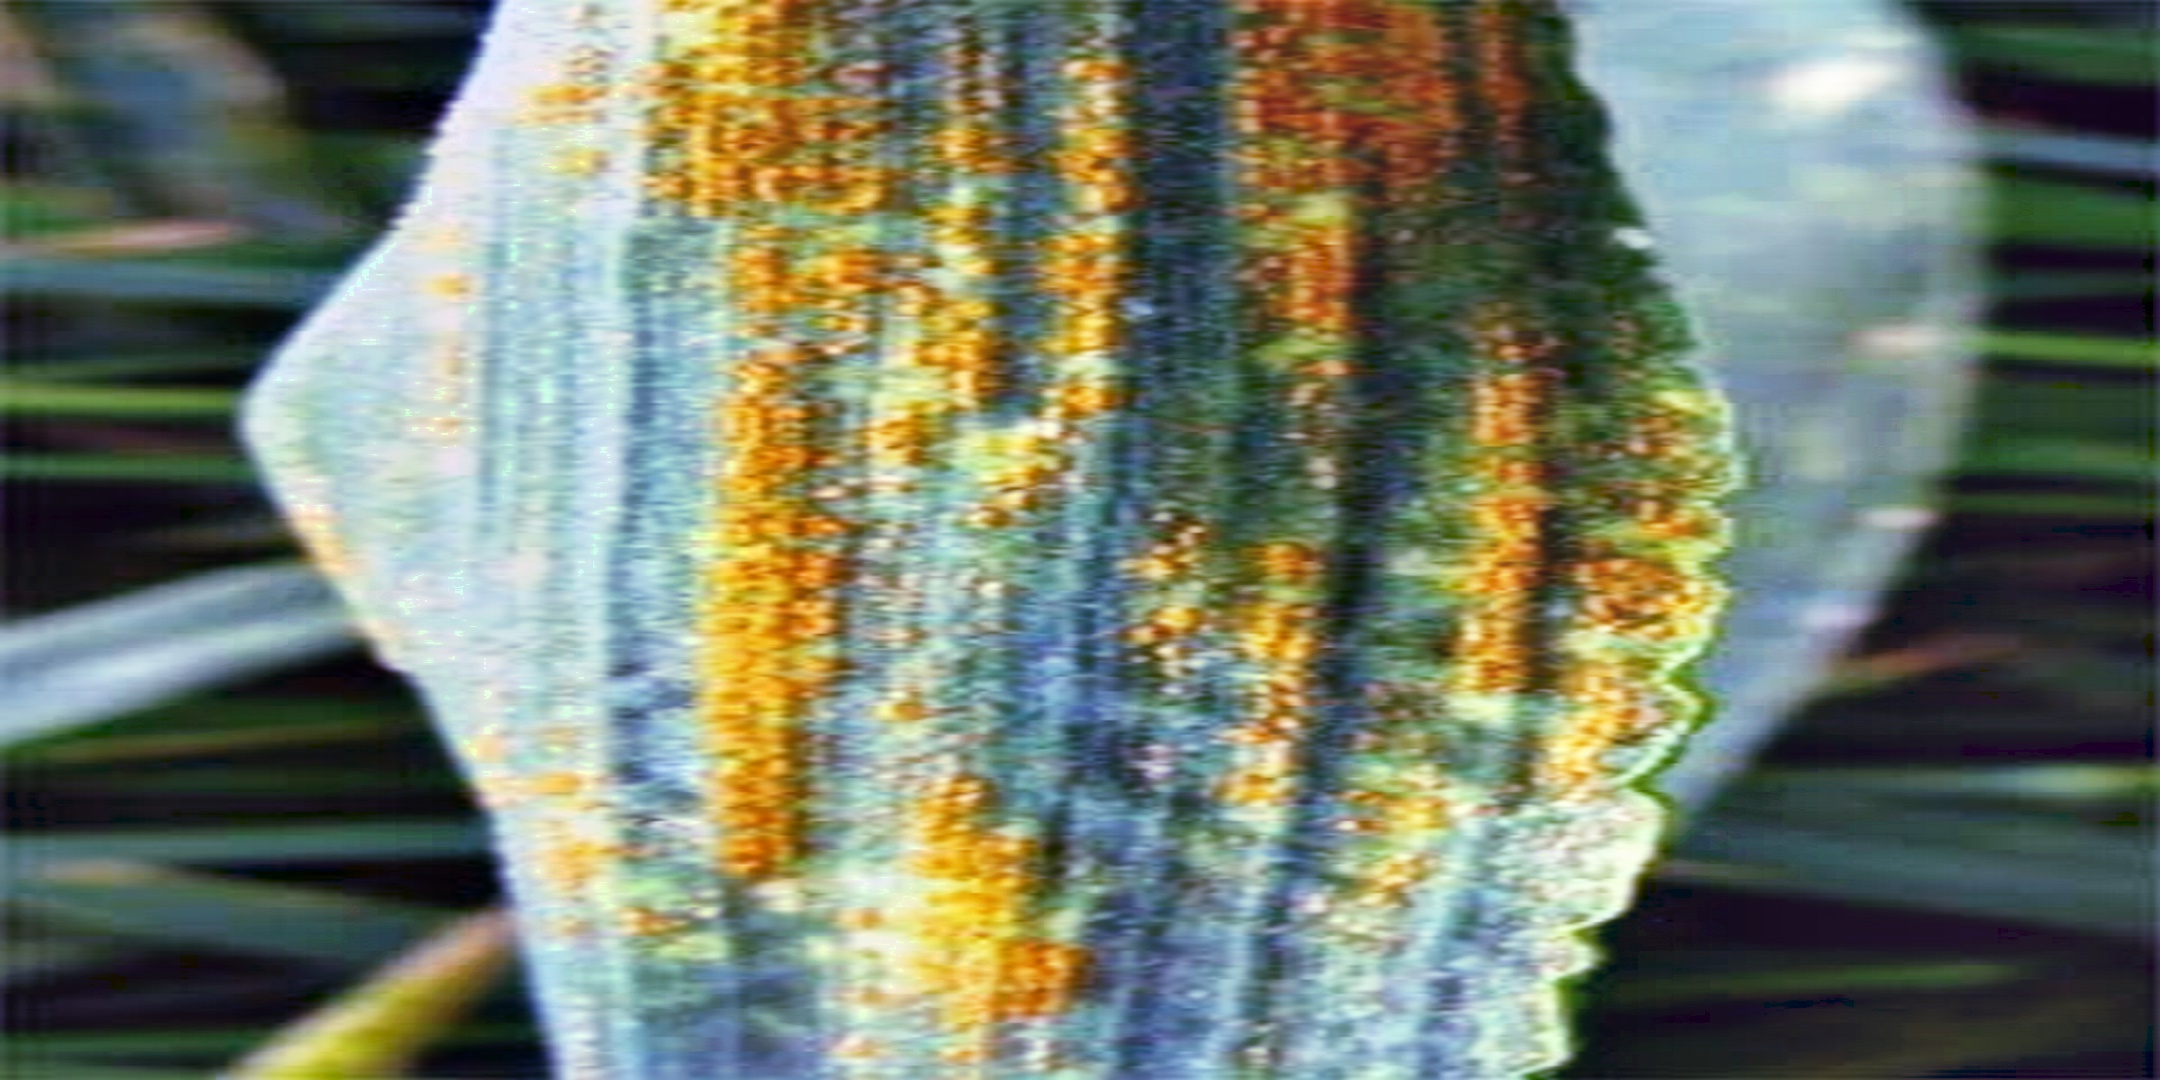Leaf Rust: (584, 18, 1692, 904)
